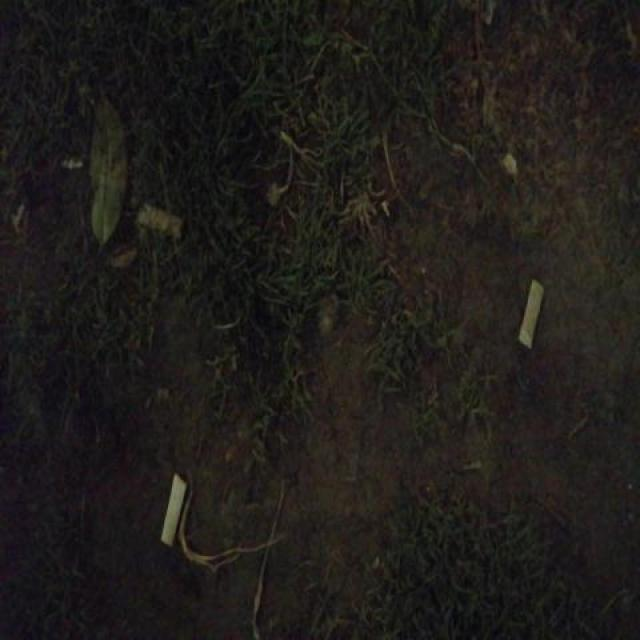non-organic waste: (155, 468, 192, 551), (513, 274, 548, 354), (132, 197, 188, 246)
